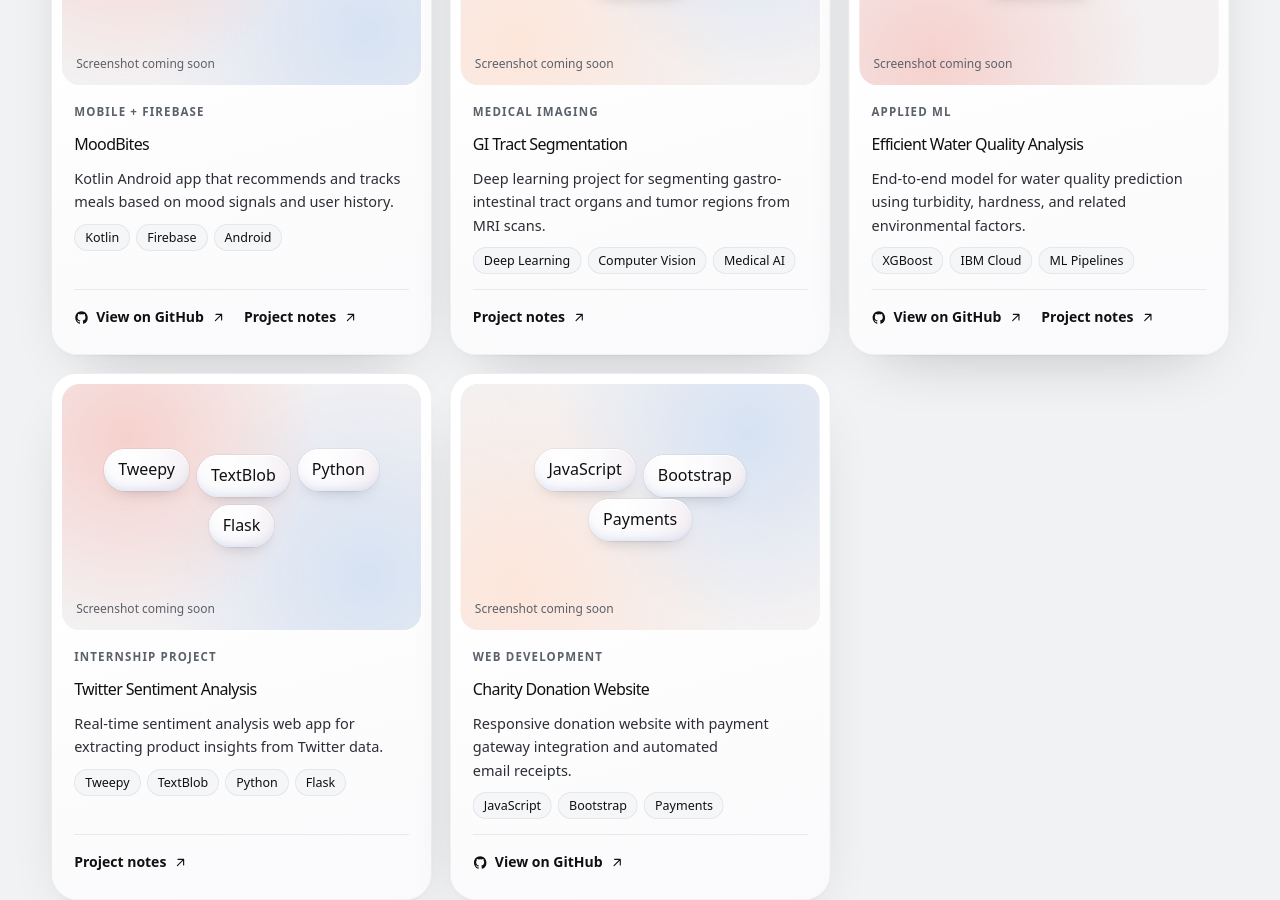
Scenario: project discovery › keeps confidential project notes accessible without linking a dead legacy route
(page scrolled)
Click the button with aria-label "Project notes: Twitter Sentiment Analysis" at (131, 863), box [74,841,188,885]
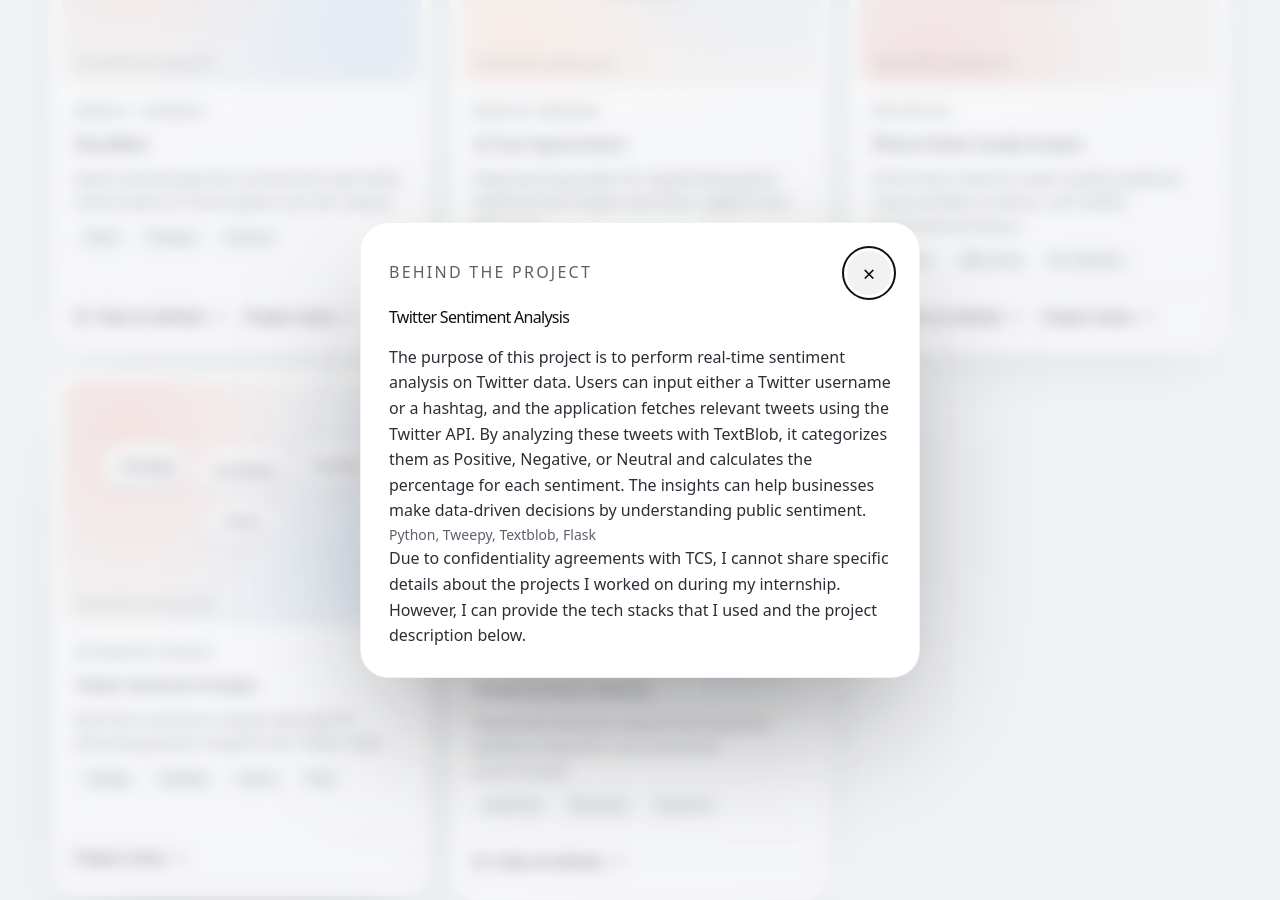
expect the dialog shows "Due to confidentiality agreements with TCS": met, box [389,547,889,646]
